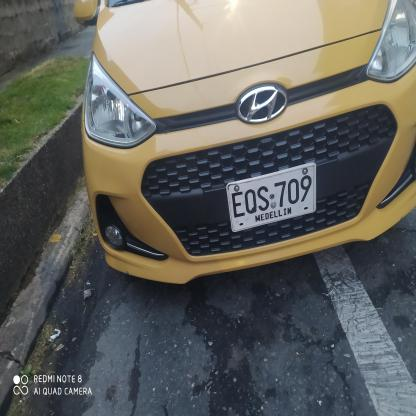placa: (220, 160, 322, 234)
